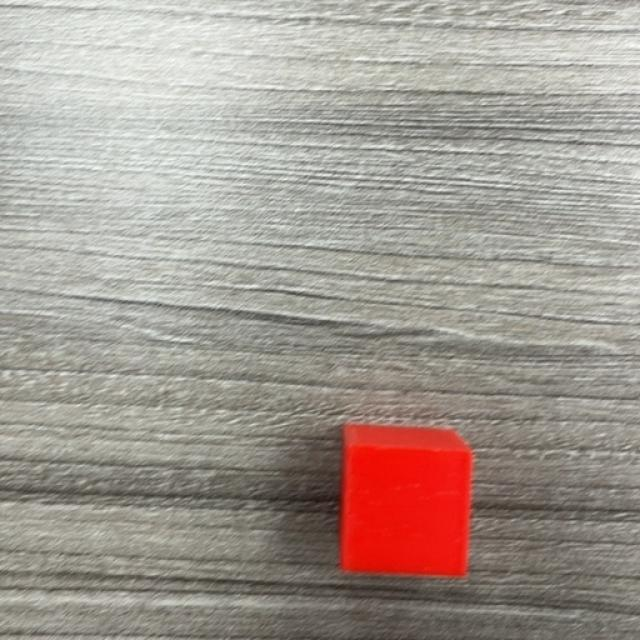Rojo: (340, 428, 475, 579)
